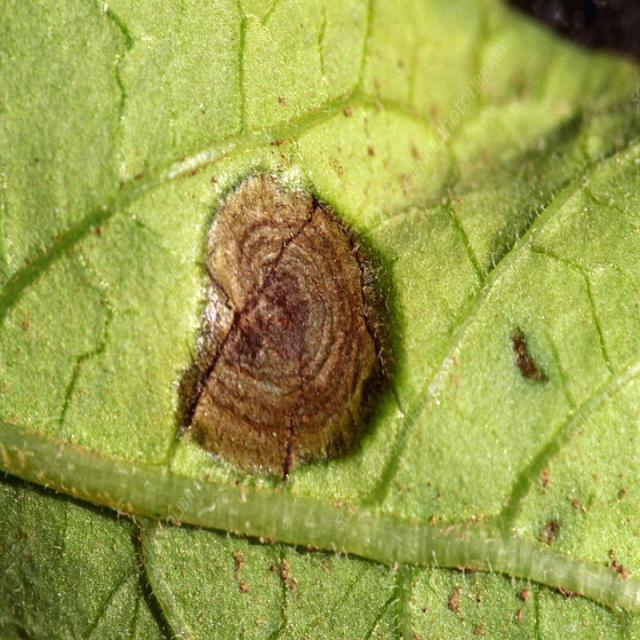earlyblight: (180, 174, 388, 477)
